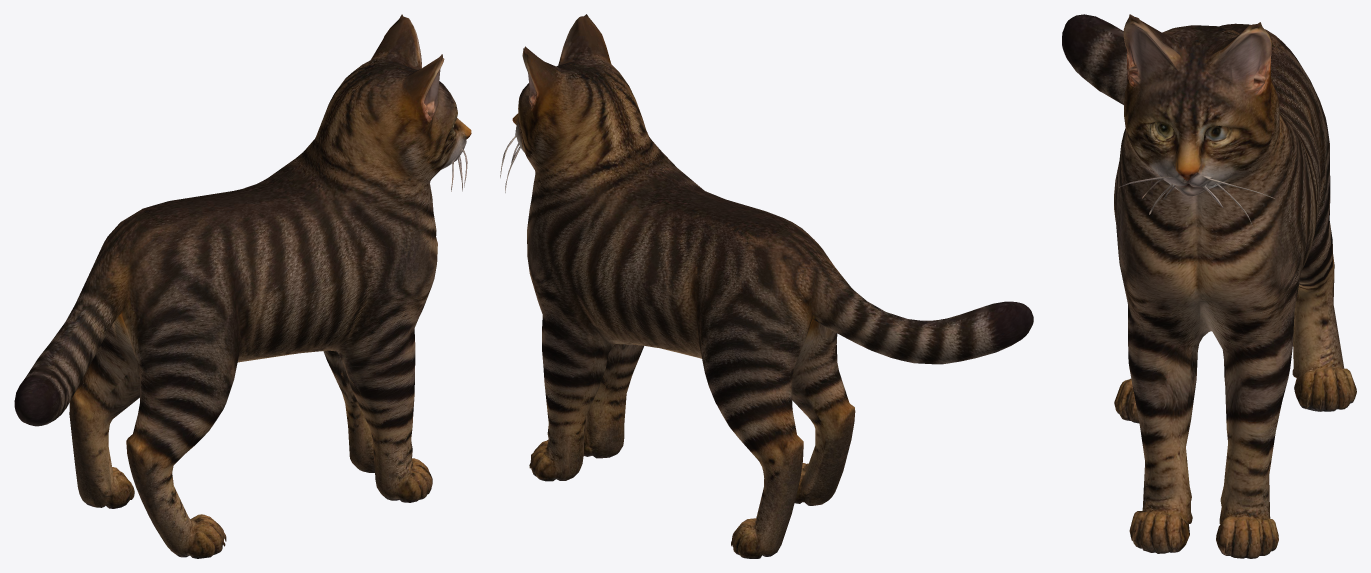
File: gta6cat.glb
3 views of the same model, side by side, from view 1: azimuth 30°, elevation 25°; view 2: azimuth 150°, elevation 25°; view 3: azimuth 270°, elevation 25° (orthographic). The views are drawn at different scales.
Visible parts, largest first — view 1: material; view 2: material; view 3: material.
Part boxes in pixels (<box>): material: <box>14,14,471,558</box>; material: <box>500,14,1033,558</box>; material: <box>1062,14,1356,558</box>.
Size of the model in its own units: 1.17 by 0.9999 by 0.4903.
1 material, 1 textured.
